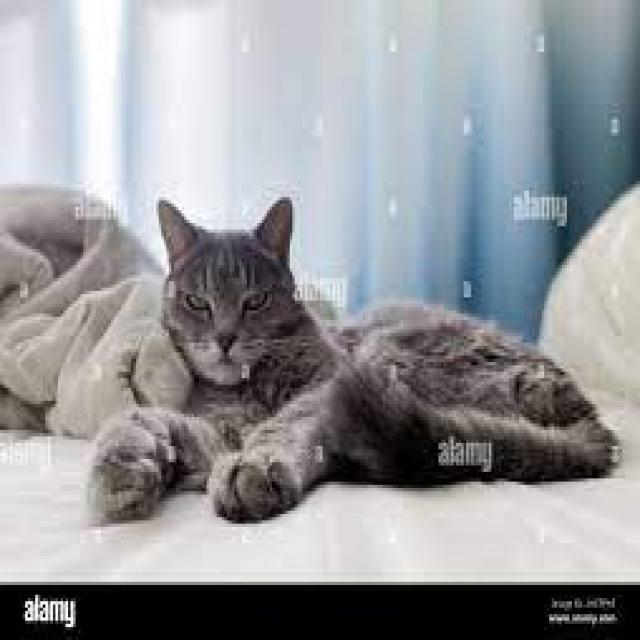Cat: (85, 192, 622, 526)
